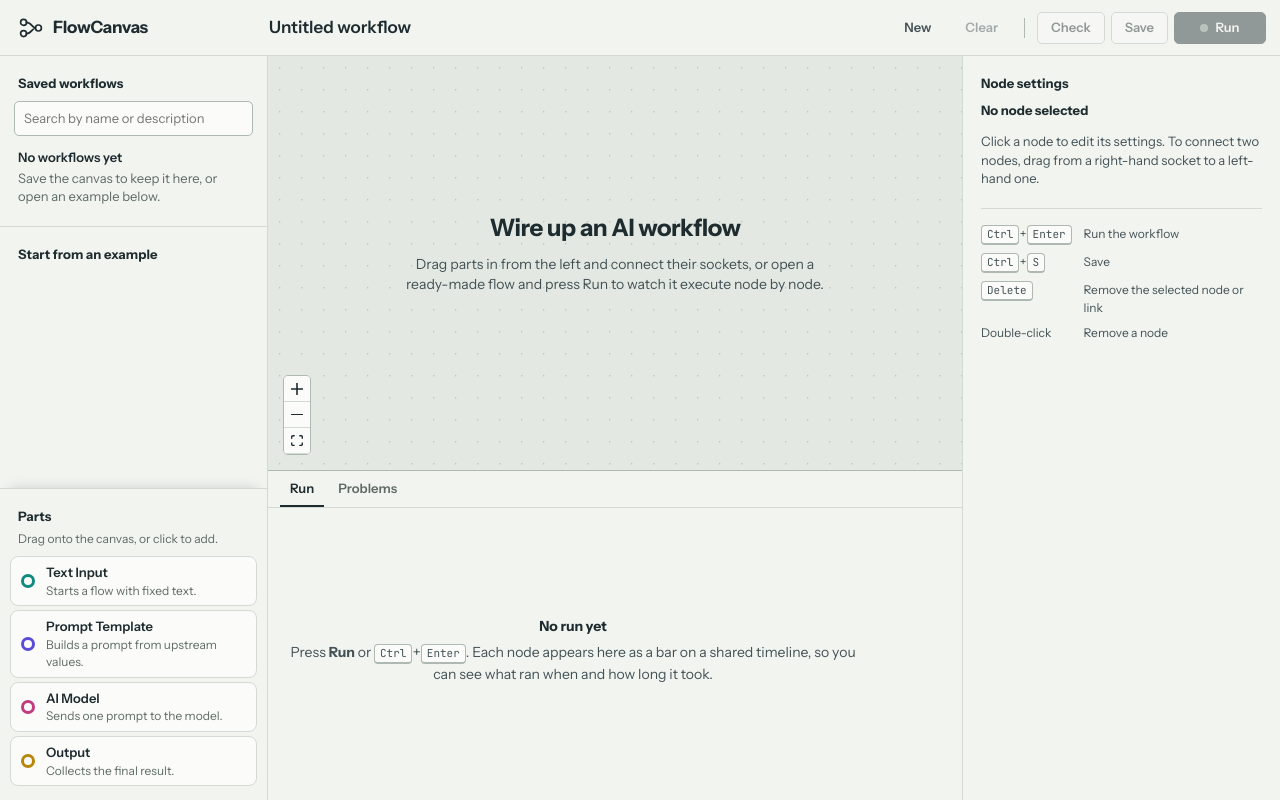
Test case: App › reports a validation error from the server in the validation panel
Click the button with test id "add-node-TEXT_INPUT".
click(134, 581)  # box [10,556,257,606]
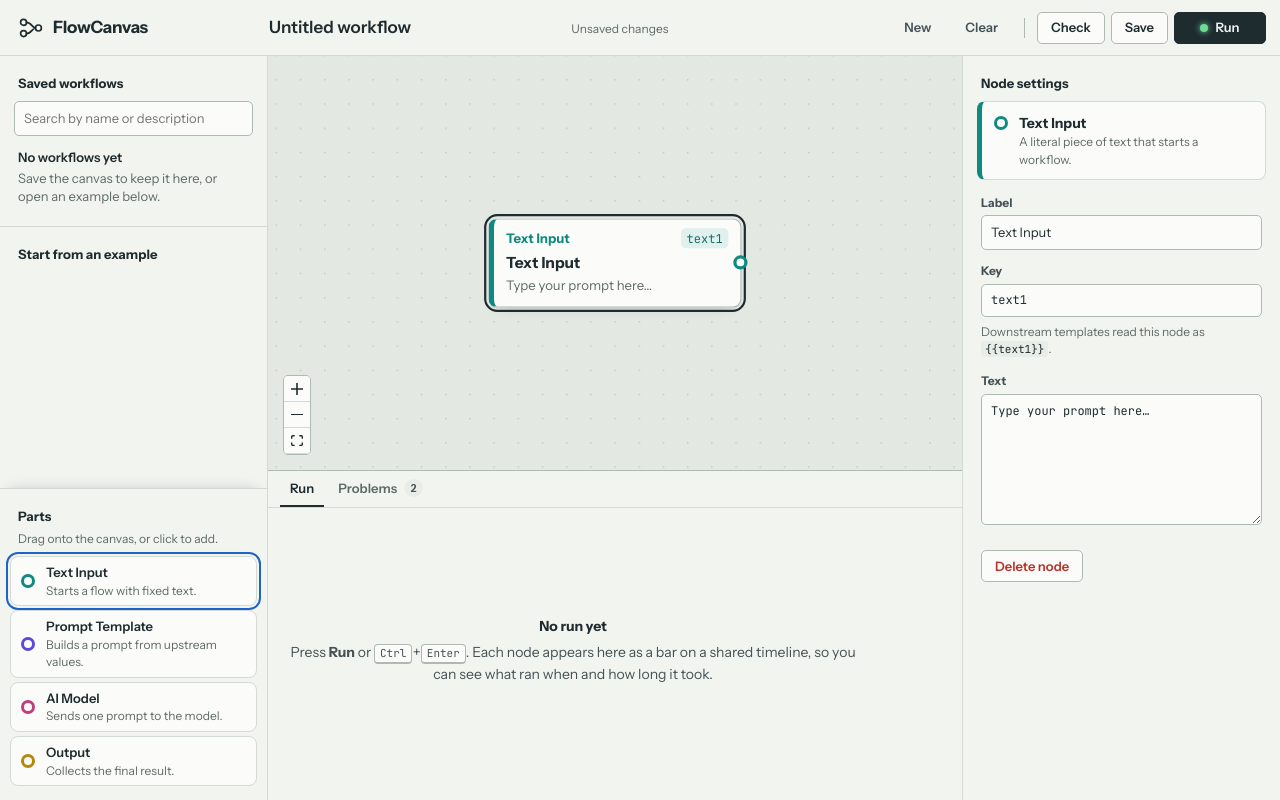
Click the button with test id "validate-workflow".
click(1071, 28)  # box [1037,12,1105,44]
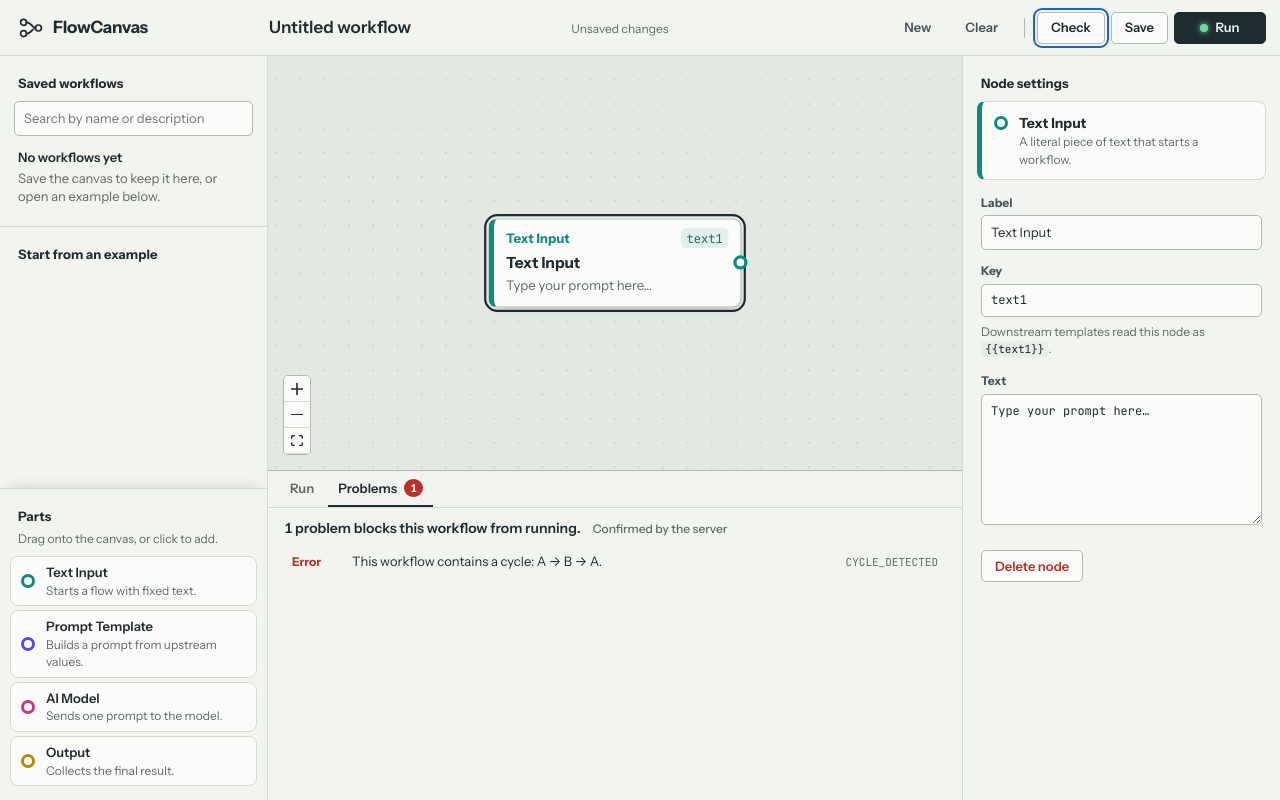
Result: the text "CYCLE_DETECTED" is shown at [846,555,938,571]
Result: the text "This workflow contains a cycle: A → B → A." is shown at [352,553,602,569]
